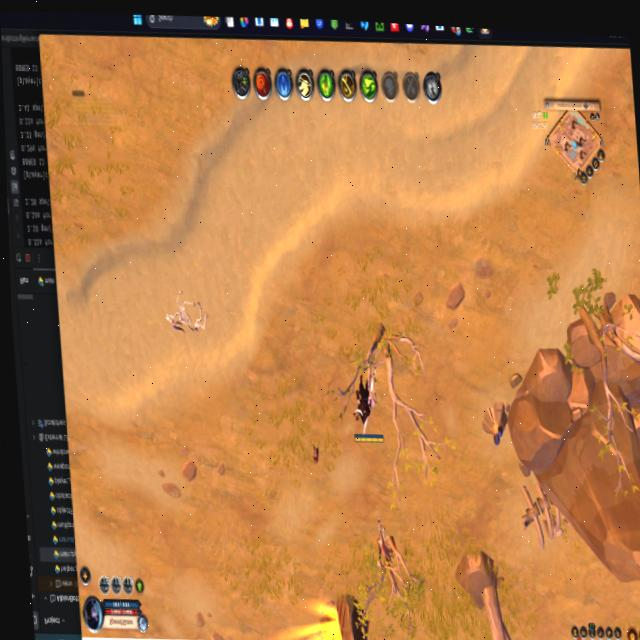ore: (374, 521, 396, 569)
red: (348, 371, 385, 447)
